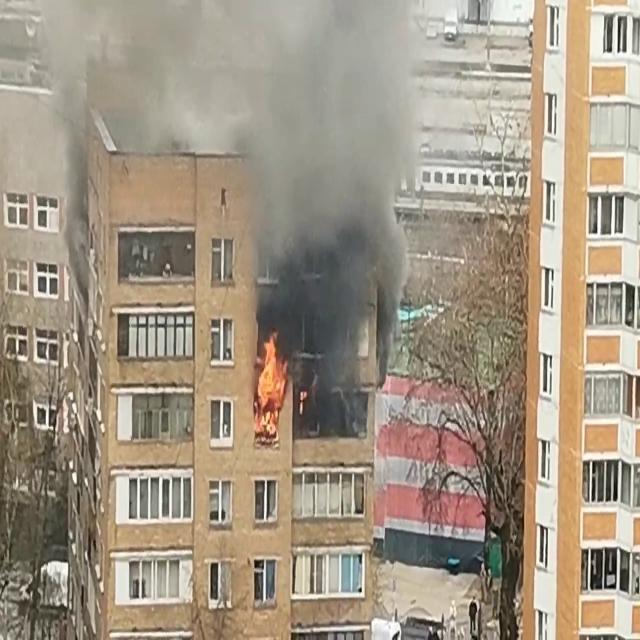Fire: (253, 324, 289, 434)
Smoke: (233, 0, 422, 408), (46, 1, 100, 299)
